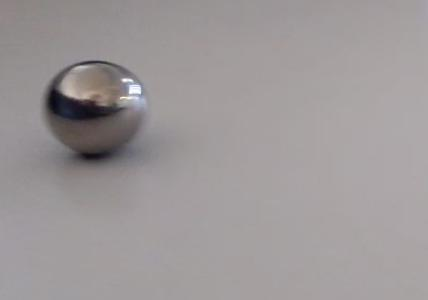steelball: (36, 54, 151, 166)
